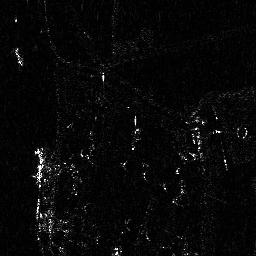ship: (12, 47, 24, 67)
